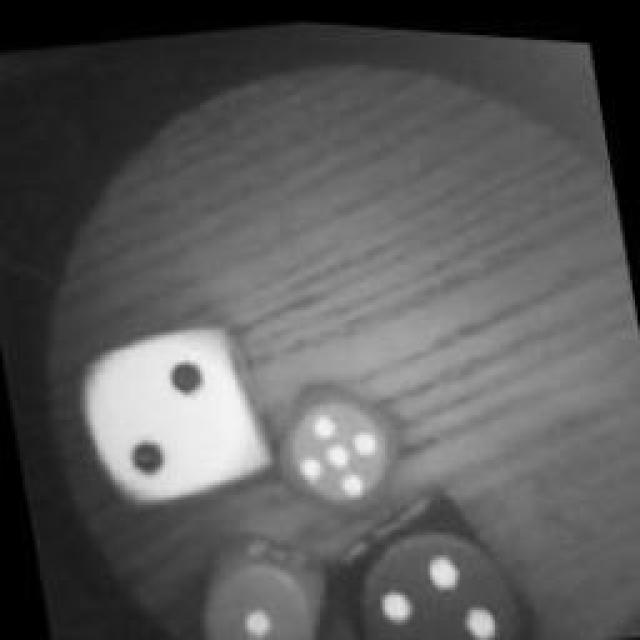dice_1: (182, 515, 340, 640)
dice_2: (72, 304, 280, 521)
dice_4: (327, 475, 535, 640)
dice_5: (252, 352, 420, 532)
